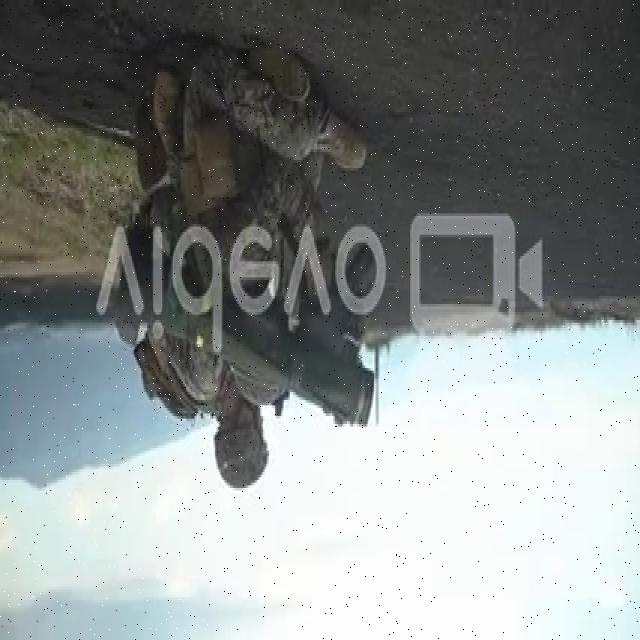bazooka: (106, 218, 379, 435)
